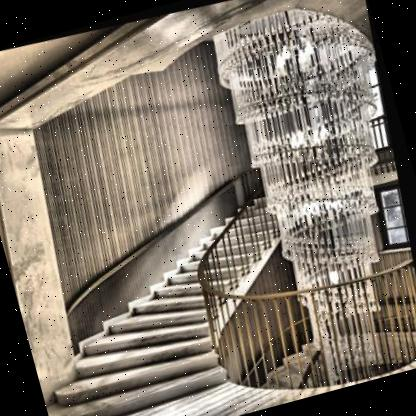stair: (13, 194, 310, 416)
